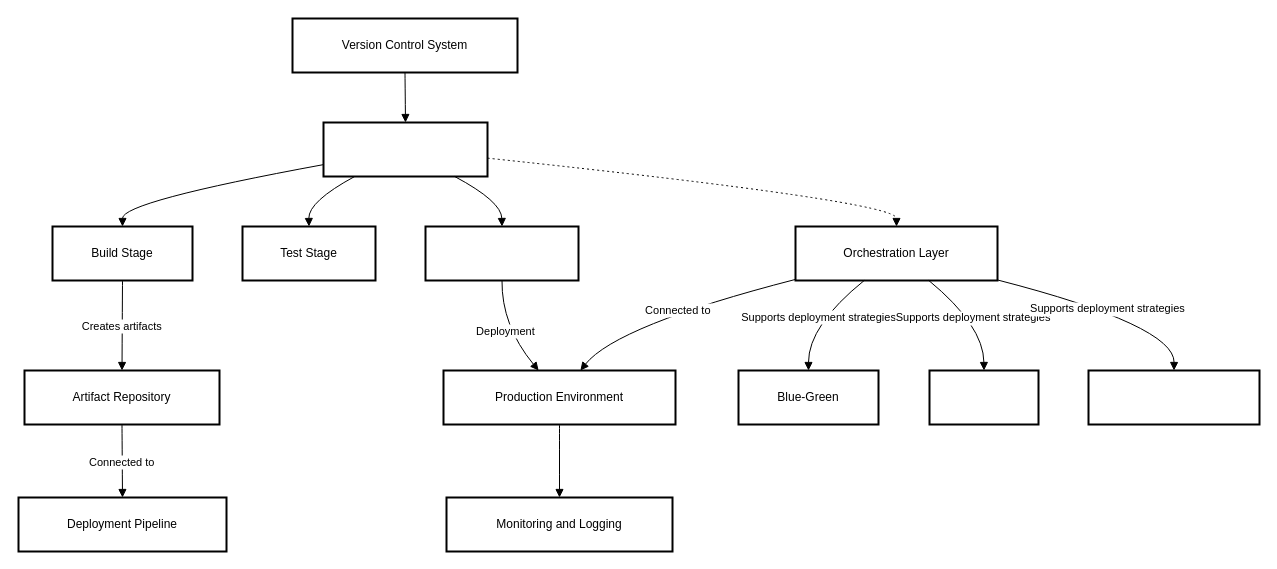
Some shapes in this 1277 by 569 pixel diagram are drawn without their labels. Each missing label, with the box of its shape:
Canary: (928, 369, 1039, 425)
CI/CD Pipeline: (322, 121, 488, 177)
Deploy Stage: (424, 225, 579, 281)
Rolling Updates: (1087, 369, 1260, 425)
